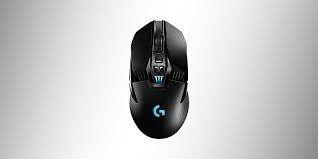mouse: (124, 13, 191, 142)
